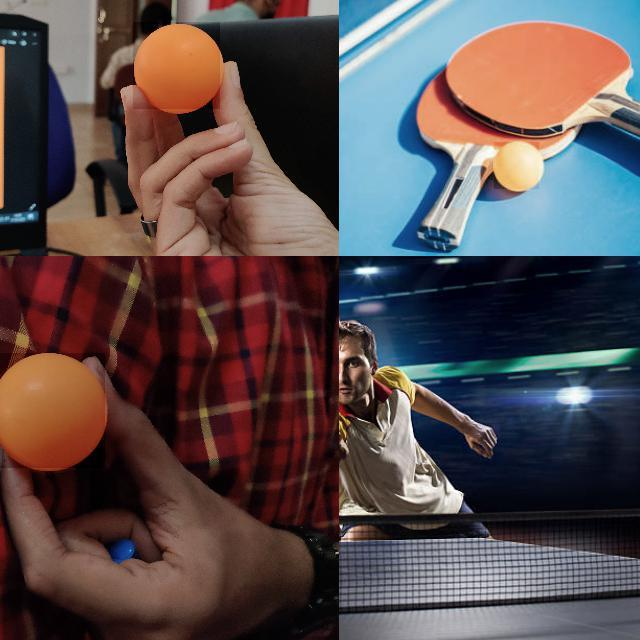ping-pong-ball: (0, 352, 107, 470), (132, 22, 222, 110), (494, 142, 540, 190)
